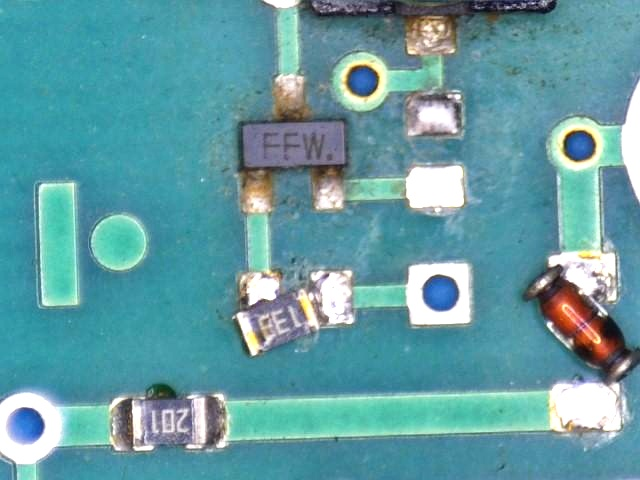pcb_defect: (523, 250, 639, 433), (234, 270, 354, 356)
